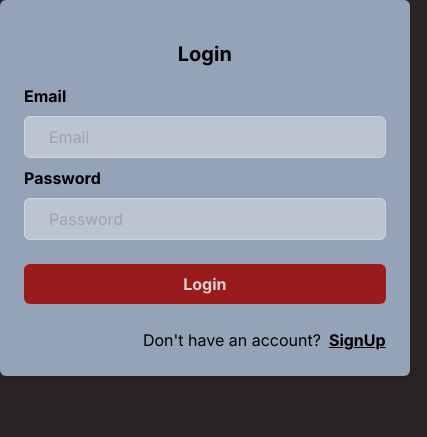
Test: it shows error when credentials are invalid
Type "weezt@gmail.com" into the field with placeholder "Email" at [205, 137], box [24,116,386,158]
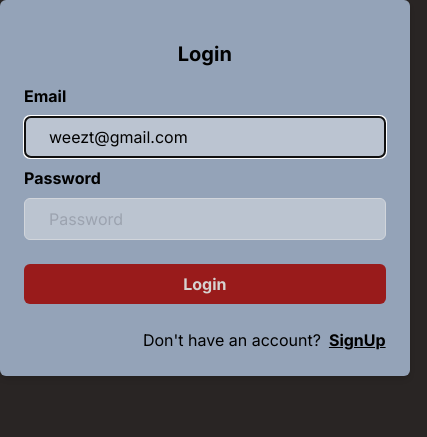
Type "password" into the password field with placeholder "Password" at [205, 219], box [24,198,386,240]
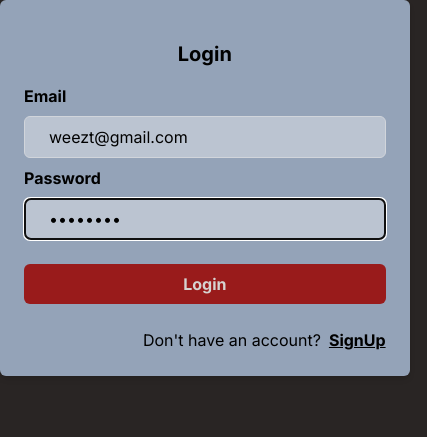
Click the button at [205, 284], box [24,264,386,304]
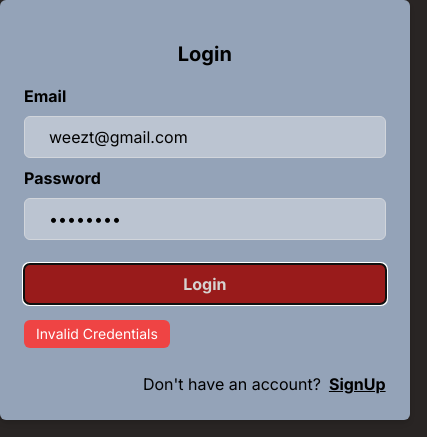
Now the text "Invalid Credentials" is shown, box [24,320,170,348]
